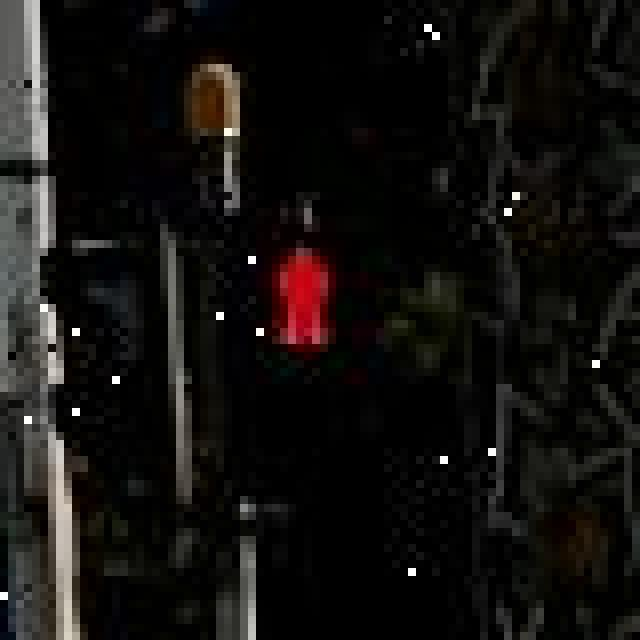redlight: (245, 211, 376, 506)
